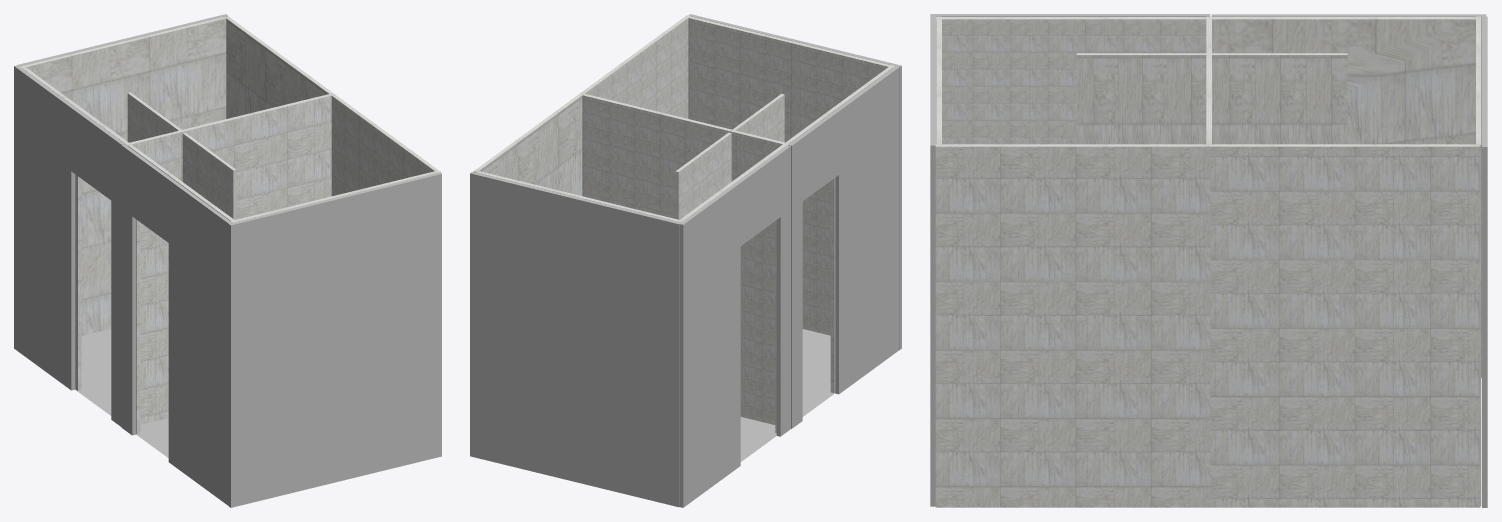
Rendered from banheiro_texturizado.fbx.
3 views of the same model, side by side, from view 1: azimuth 30°, elevation 25°; view 2: azimuth 150°, elevation 25°; view 3: azimuth 270°, elevation 25° (orthographic). The views are drawn at different scales.
Visible parts, largest first — view 1: polySurface36, polySurface43, polySurface42, pasted__polySurface39, polySurface40, polySurface35, polySurface38, polySurface44, polySurface41, pasted__polySurface42, pasted__polySurface43, polySurface45 (+3 smaller); view 2: polySurface39, polySurface42, polySurface43, polySurface40, pasted__polySurface36, polySurface35, polySurface38, polySurface45, polySurface37, pasted__polySurface43, polySurface36, polySurface44 (+3 smaller); view 3: polySurface35, polySurface38, pasted__polySurface43, pasted__polySurface42, polySurface45, polySurface44, polySurface36, polySurface39, pasted__polySurface39, polySurface42, polySurface43, polySurface40 (+1 smaller).
Part boxes in pixels (bbox=[...]): polySurface36: bbox=[228, 172, 441, 507]; polySurface43: bbox=[121, 144, 232, 505]; polySurface42: bbox=[14, 65, 124, 426]; pasted__polySurface39: bbox=[20, 16, 226, 335]; polySurface40: bbox=[125, 93, 331, 424]; polySurface35: bbox=[330, 93, 441, 196]; polySurface38: bbox=[225, 16, 333, 118]; polySurface44: bbox=[182, 132, 236, 219]; polySurface41: bbox=[75, 329, 111, 415]; pasted__polySurface42: bbox=[22, 67, 128, 390]; pasted__polySurface43: bbox=[126, 144, 236, 434]; polySurface45: bbox=[127, 92, 181, 142]; polySurface39: bbox=[470, 172, 680, 507]; polySurface42: bbox=[679, 145, 790, 507]; polySurface43: bbox=[788, 66, 899, 428]; polySurface40: bbox=[581, 93, 789, 424]; pasted__polySurface36: bbox=[688, 16, 894, 335]; polySurface35: bbox=[579, 15, 690, 118]; polySurface38: bbox=[473, 94, 582, 195]; polySurface45: bbox=[675, 132, 731, 219]; polySurface37: bbox=[802, 329, 834, 416]; pasted__polySurface43: bbox=[786, 65, 894, 393]; polySurface36: bbox=[688, 14, 901, 349]; polySurface44: bbox=[732, 93, 784, 142]; polySurface35: bbox=[935, 144, 1210, 507]; polySurface38: bbox=[1205, 144, 1480, 507]; pasted__polySurface43: bbox=[935, 17, 1206, 144]; pasted__polySurface42: bbox=[1205, 17, 1480, 144]; polySurface45: bbox=[1212, 53, 1347, 144]; polySurface44: bbox=[1076, 53, 1206, 144]; polySurface36: bbox=[930, 14, 935, 506]; polySurface39: bbox=[1482, 16, 1487, 507]; pasted__polySurface39: bbox=[1476, 16, 1481, 505]; polySurface42: bbox=[1211, 14, 1486, 377]; polySurface43: bbox=[935, 14, 1210, 16]; polySurface40: bbox=[1206, 16, 1211, 144].
Bounding box in the file's own units: 630 × 803 × 1116.
